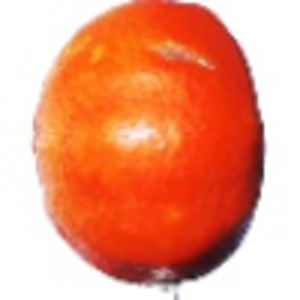tangerina: (31, 1, 267, 300)
